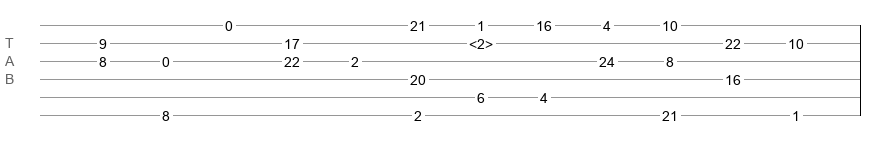0: (162, 54, 170, 64), (225, 18, 233, 28)
1: (477, 18, 485, 28), (792, 108, 800, 118)
10: (662, 18, 678, 28), (788, 36, 804, 46)
16: (536, 18, 552, 28), (725, 72, 741, 82)
17: (284, 36, 300, 46)
2: (351, 54, 359, 64), (414, 108, 422, 118)
20: (410, 72, 426, 82)
21: (410, 18, 426, 28), (662, 108, 678, 118)
22: (284, 54, 300, 64), (725, 36, 741, 46)
24: (599, 54, 615, 64)
4: (540, 90, 548, 100), (603, 18, 611, 28)
6: (477, 90, 485, 100)
8: (99, 54, 107, 64), (162, 108, 170, 118), (666, 54, 674, 64)
9: (99, 36, 107, 46)
harmonic: (469, 36, 493, 46)
